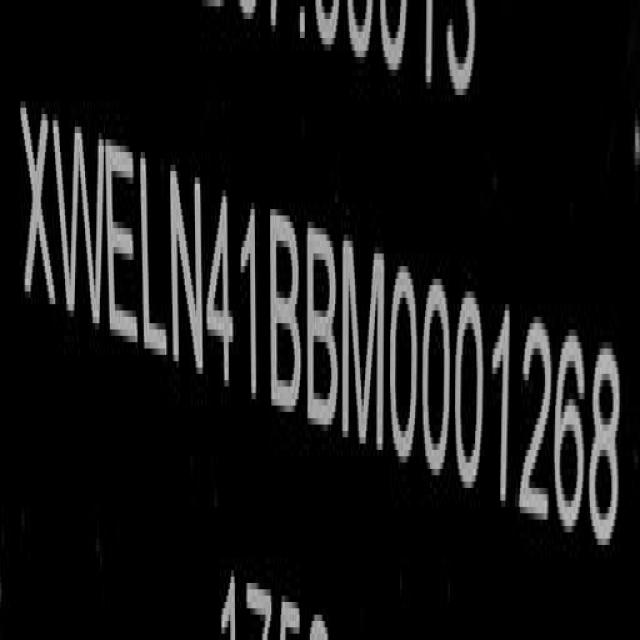0: (423, 270, 453, 486), (452, 285, 482, 501), (389, 256, 418, 472)
1: (493, 299, 517, 517), (238, 192, 258, 412)
2: (522, 319, 552, 534)
4: (207, 177, 234, 398)
6: (555, 328, 589, 543)
8: (592, 341, 624, 555)
B: (305, 217, 341, 441), (272, 205, 304, 425)
E: (105, 134, 138, 363)
L: (140, 148, 170, 374)
M: (344, 234, 387, 463)
N: (171, 162, 205, 378)
W: (54, 105, 106, 344)
X: (17, 90, 56, 331)
